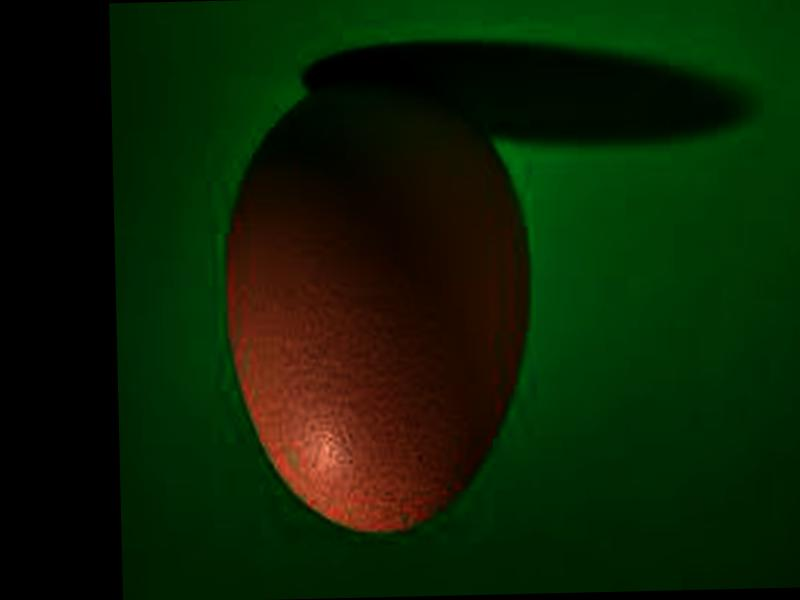Eggs: (219, 71, 535, 534)
